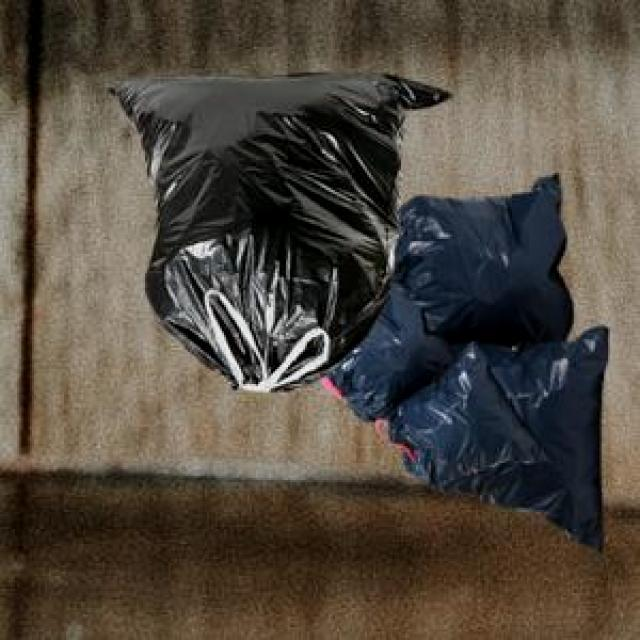Trashbag: (103, 67, 450, 396), (397, 170, 575, 347), (393, 338, 549, 488)
